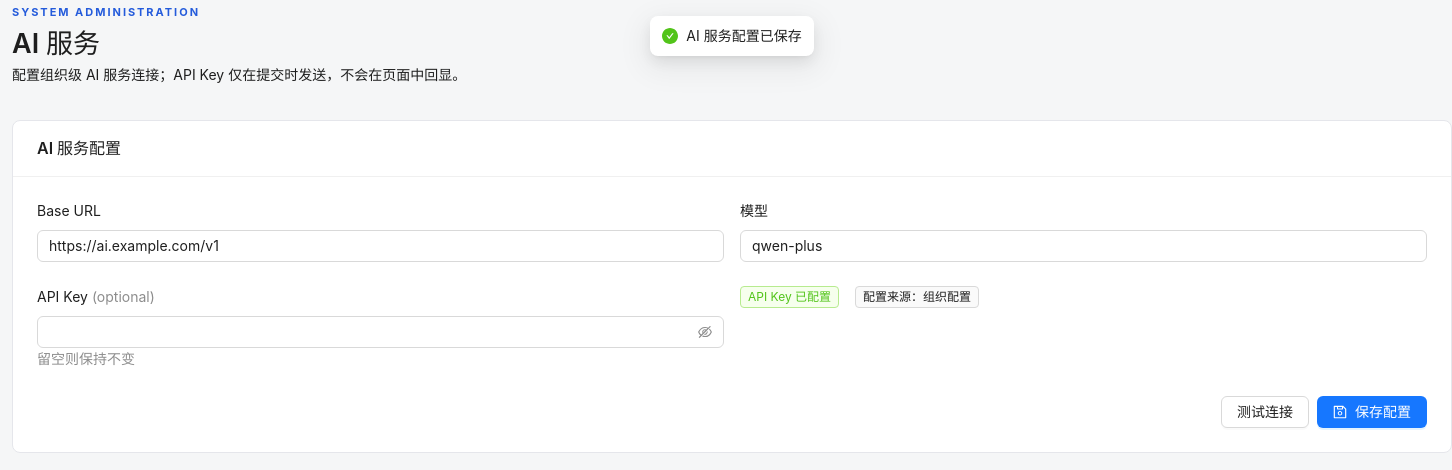
Test: 显示后端返回的安全错误消息
Expected: the field showing "https://ai.example.com/v1" is shown, [37,230,724,262]
Click the button "测试连接" at (1265,412), box [1221,396,1309,428]
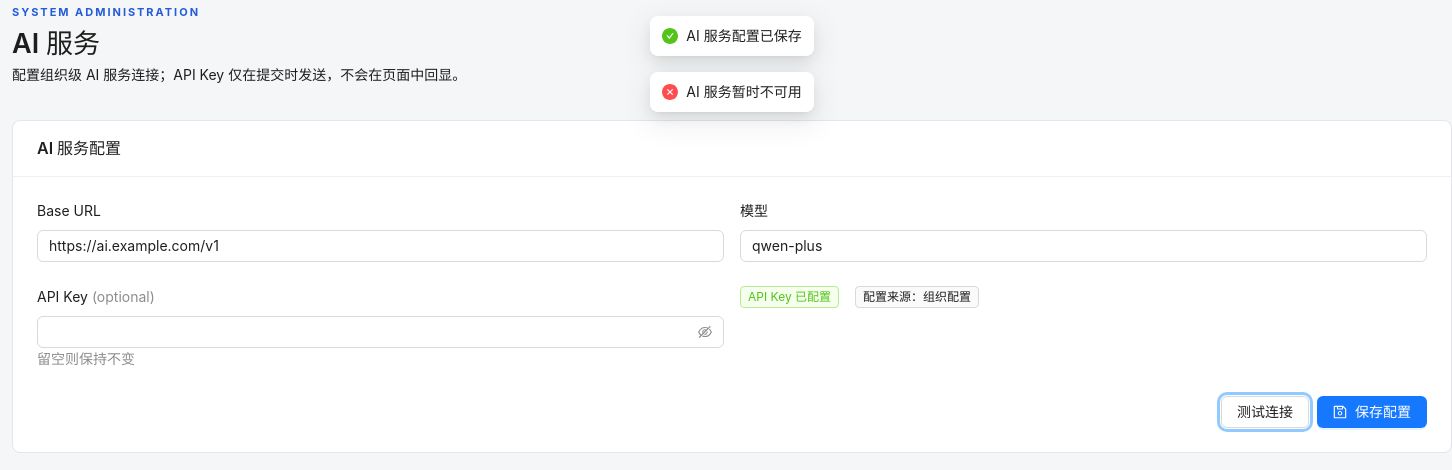
Now the text "AI 服务暂时不可用" is shown, box [686,81,802,103]
